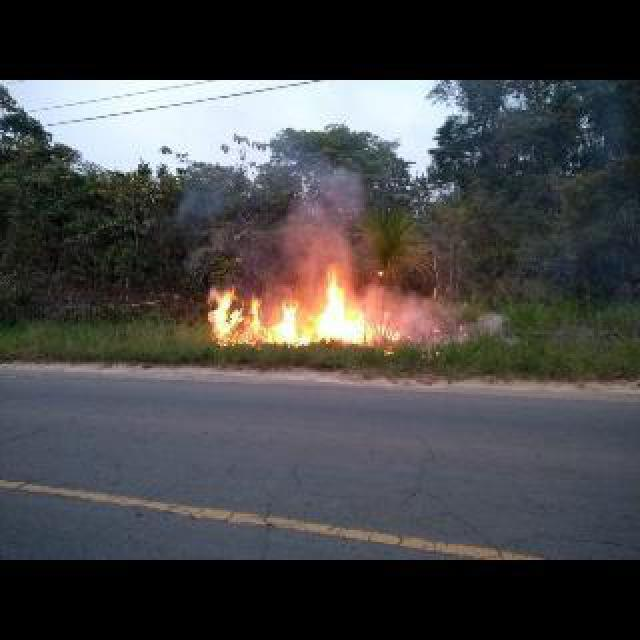Fire: (208, 260, 370, 350)
Smoke: (276, 148, 378, 288), (368, 282, 481, 348)
